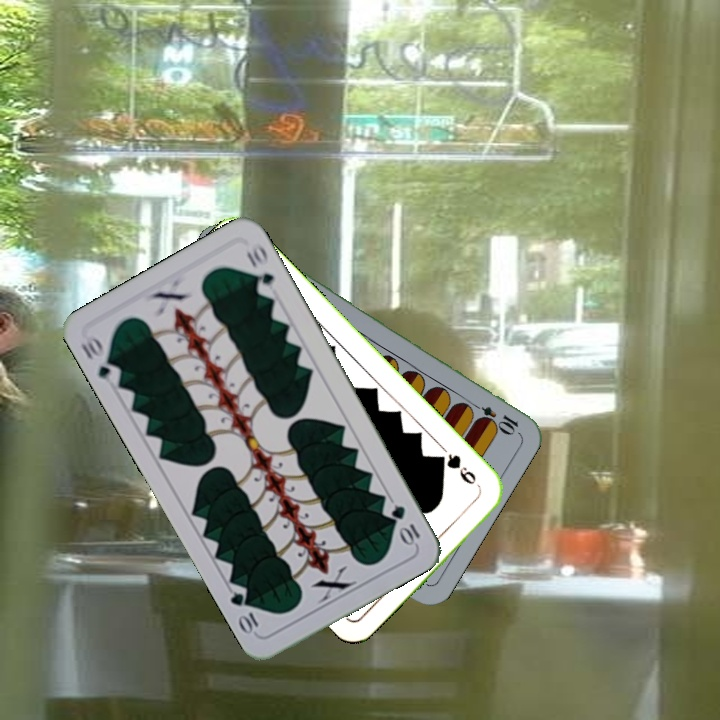E10: (465, 398, 521, 436)
G10: (76, 333, 124, 388), (387, 501, 423, 548)
G9: (433, 449, 479, 487)
